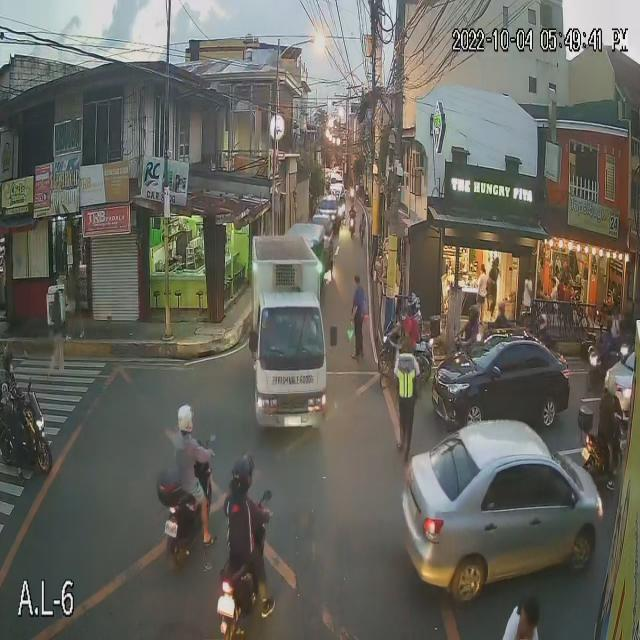helmet: (230, 455, 253, 497), (177, 397, 201, 435), (0, 344, 16, 379), (404, 293, 425, 318), (464, 302, 481, 327), (494, 298, 510, 319), (607, 369, 619, 396), (537, 310, 552, 328)
motorcycle: (214, 514, 285, 633), (156, 447, 224, 563), (0, 385, 53, 473), (375, 327, 433, 387), (590, 417, 632, 487)
rider: (220, 451, 268, 557), (169, 392, 206, 501), (594, 361, 631, 447), (0, 336, 32, 431), (458, 296, 487, 358), (405, 291, 428, 353), (484, 295, 512, 342), (532, 305, 555, 360)
